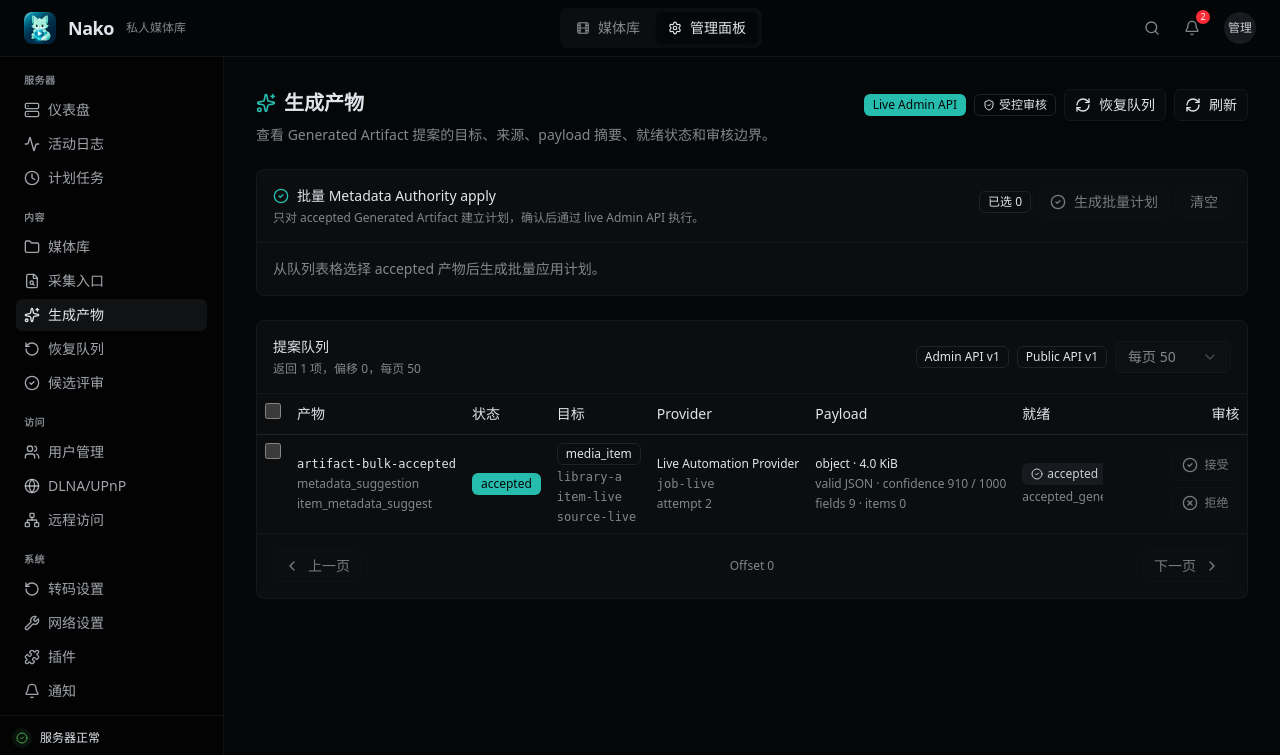
it: route state contracts › runs live Admin generated artifact metadata bulk apply through plan, confirm, and status
The image size is (1280, 755).
Expected: the text "artifact-bulk-accepted" is shown, [297,456,456,472]
Click the checkbox named "选择批量应用 artifact-bulk-accepted".
click(273, 450)  # box [265,442,281,458]
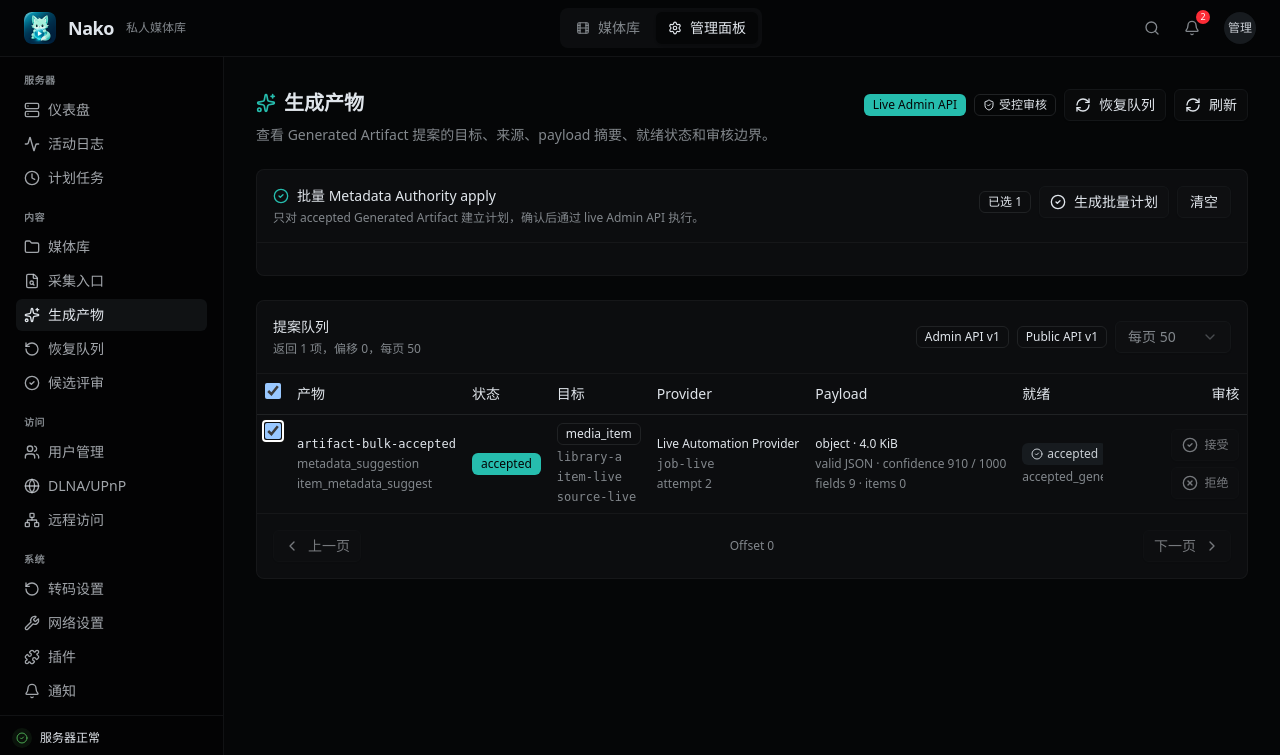
Click the button "生成批量计划".
click(1104, 202)  # box [1039,186,1169,218]
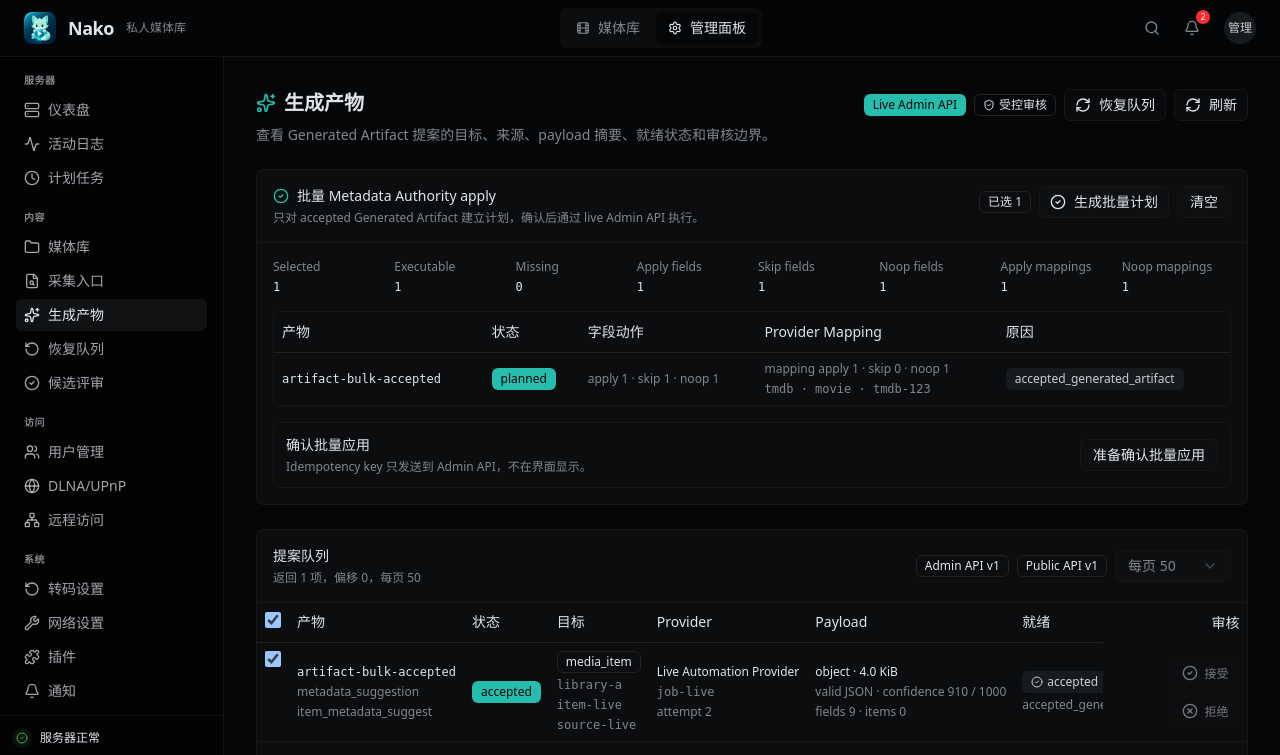
Now the text "Apply fields" is shown, box [637,258,702,275]
Now the text "Apply mappings" is shown, box [1000,258,1092,275]
Now the text "mapping apply 1 · skip 0 · noop 1" is shown, box [764,360,950,376]
Click the button "准备确认批量应用".
click(1149, 454)  # box [1080,438,1218,470]
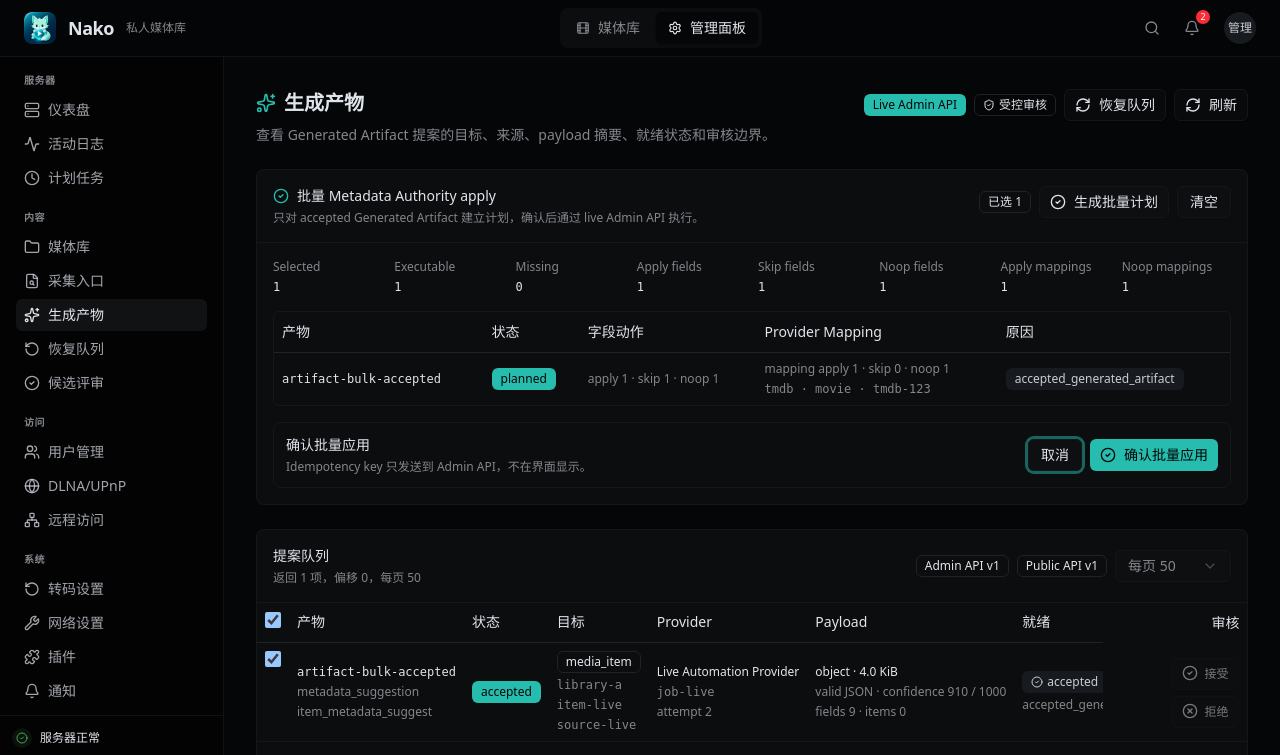
Click the button "确认批量应用".
click(1154, 454)  # box [1090,438,1218,470]
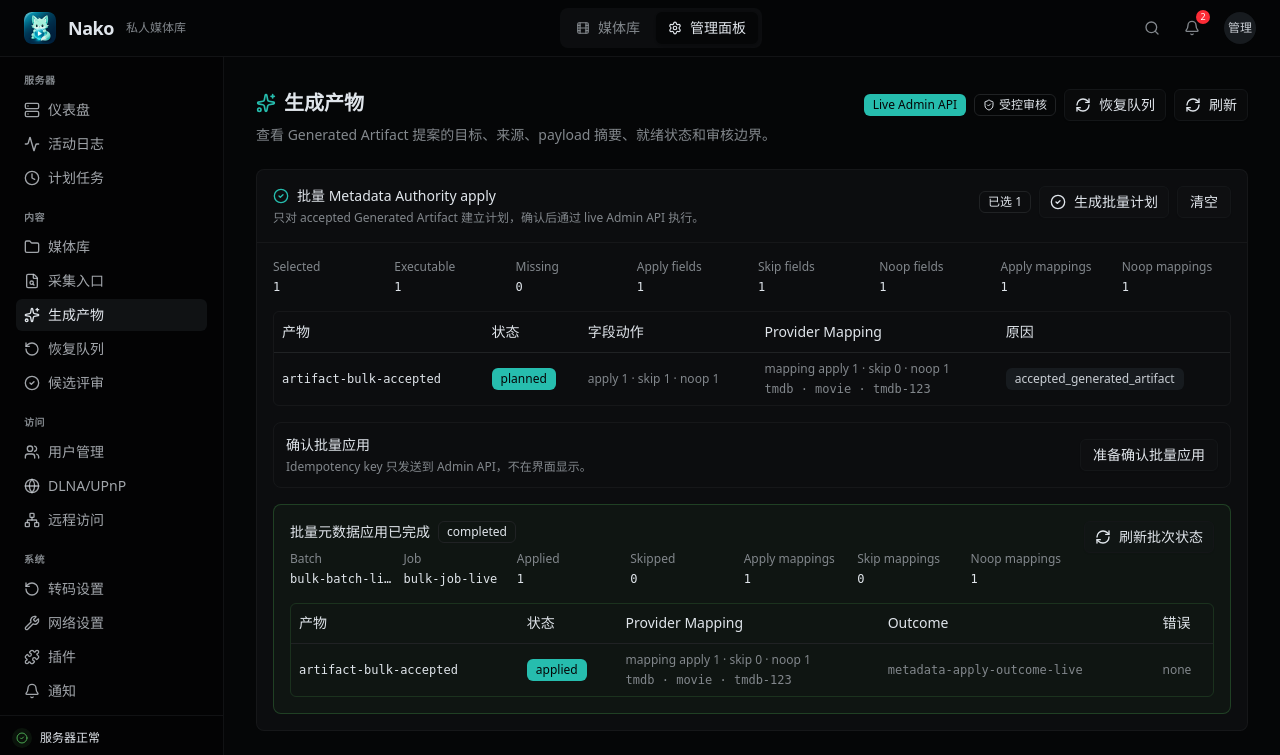
Now the column heading "Provider Mapping" next to "字段动作" is shown, box [764,322,882,341]
Now the text "批量元数据应用已完成" is shown, box [290,522,430,542]
Now the text "bulk-batch-live" is shown, box [290,570,391,586]
